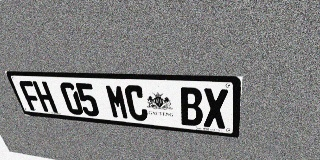0: (58, 82, 84, 115)
5: (75, 83, 101, 117)
B: (179, 87, 203, 127)
C: (123, 85, 149, 122)
F: (18, 81, 44, 112)
H: (32, 81, 58, 113)
M: (104, 84, 130, 120)
X: (203, 88, 228, 129)
